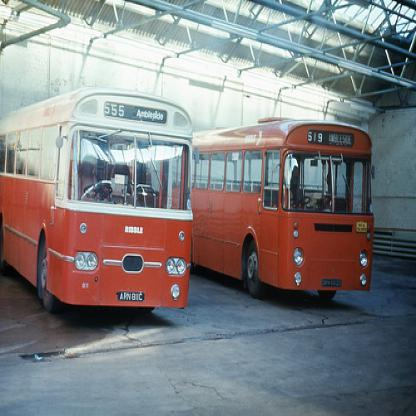bus: (0, 84, 200, 314), (191, 118, 376, 304)
